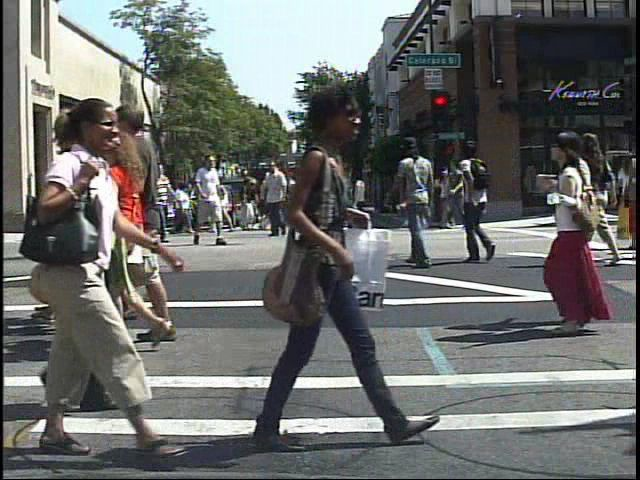person: (230, 76, 425, 458), (15, 88, 183, 471), (90, 122, 196, 356), (97, 97, 167, 351), (540, 122, 618, 348), (451, 138, 509, 271), (395, 131, 444, 276), (574, 128, 604, 343), (577, 132, 620, 268), (192, 151, 223, 249), (72, 163, 102, 247), (130, 161, 160, 244), (145, 158, 176, 238), (401, 161, 429, 234), (56, 182, 82, 246), (83, 183, 104, 225)
